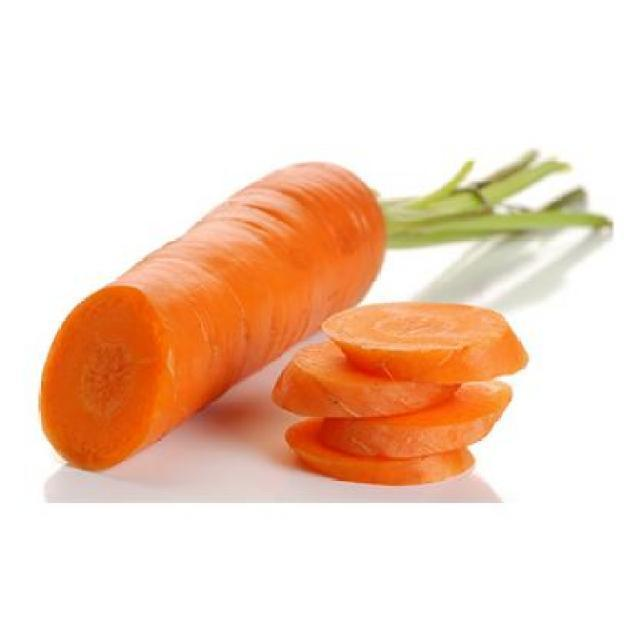carrot: (39, 160, 390, 474)
